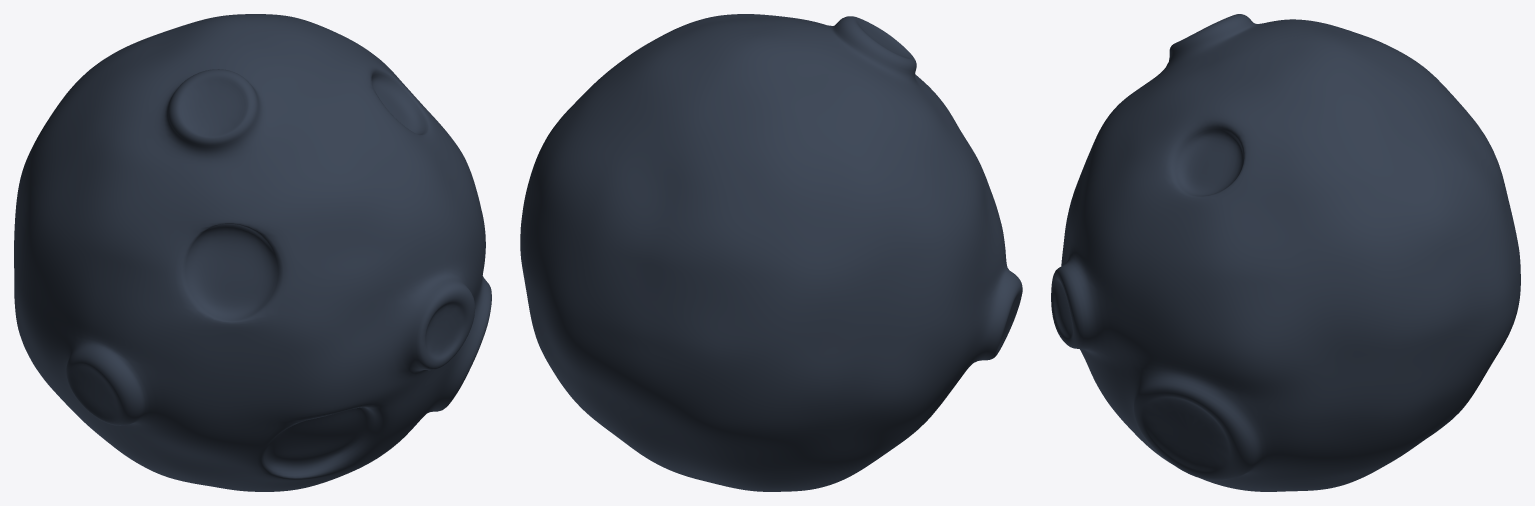
File: LunaMesh.glb
The picture shows the model from 3 angles, left to right: view 1: azimuth 30°, elevation 25°; view 2: azimuth 150°, elevation 25°; view 3: azimuth 270°, elevation 25°; orthographic projection. The views are drawn at different scales.
Parts seen in each view (by area): view 1: Sphere.015; view 2: Sphere.015; view 3: Sphere.015.
Part boxes in pixels (x1=…): Sphere.015: x1=14, y1=14, x2=491, y2=491; Sphere.015: x1=520, y1=14, x2=1022, y2=491; Sphere.015: x1=1051, y1=14, x2=1520, y2=491.
Size of the model in its own units: 1.9 by 1.89 by 1.89.
